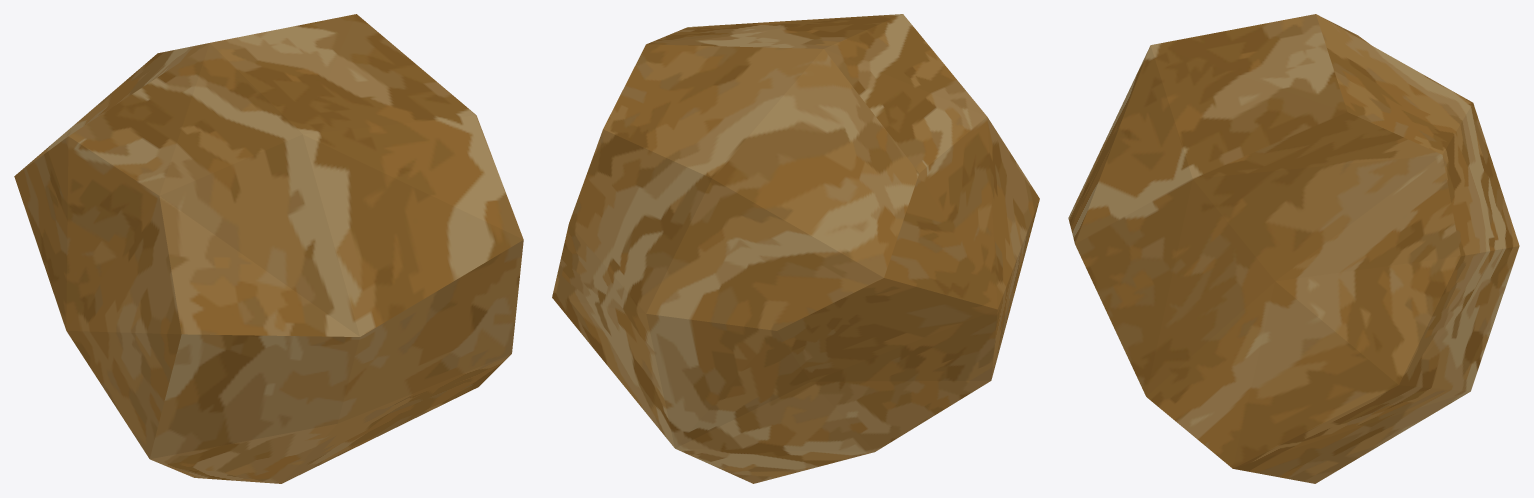
File: pedrolo2.glb
The picture shows the model from 3 angles, left to right: view 1: azimuth 30°, elevation 25°; view 2: azimuth 150°, elevation 25°; view 3: azimuth 270°, elevation 25°; orthographic projection. The views are drawn at different scales.
Visible parts, largest first — view 1: hojas2; view 2: hojas2; view 3: hojas2.
Boxes of the visible parts, <box> form: hojas2: <box>14,14,523,483</box>; hojas2: <box>552,14,1039,483</box>; hojas2: <box>1068,14,1519,483</box>.
Bounding box in the file's own units: 17.51 × 19.59 × 18.35.
1 material, 1 textured.
